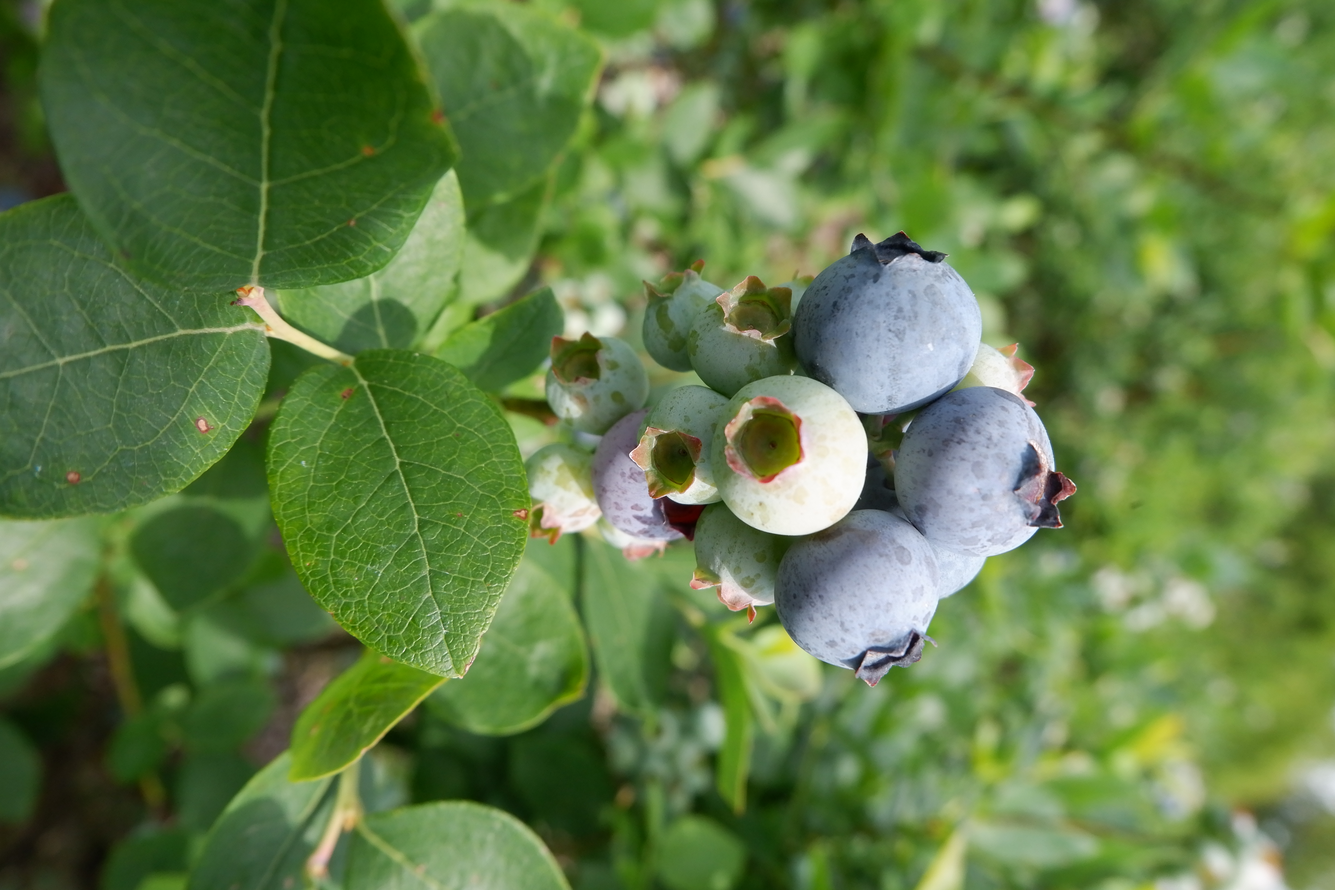Immature: (721, 378, 867, 534), (690, 275, 798, 393), (637, 387, 729, 501), (640, 258, 729, 374), (546, 335, 647, 432), (693, 503, 786, 607), (526, 445, 602, 545), (965, 343, 1031, 391), (599, 522, 668, 559), (775, 270, 813, 317)
Mature: (795, 234, 979, 414), (898, 387, 1061, 553), (778, 510, 936, 673), (850, 461, 985, 601), (594, 415, 700, 546)
